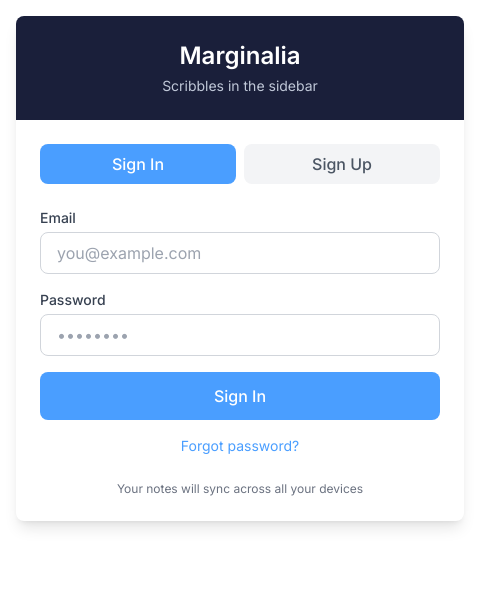
Test: Options › Sign In form › should show error message on sign in failure
The image size is (481, 609).
(page scrolled)
Step 1. Type "test@example.com" into the field with test id "email-input" → (240, 253), box [40, 232, 440, 274]
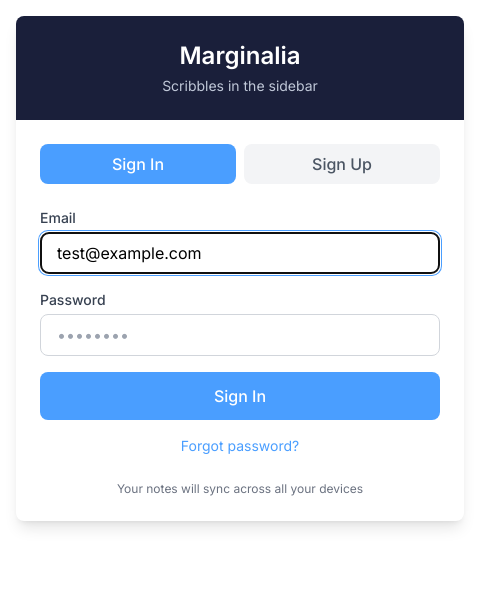
Step 2. Type "wrongpassword" into the password field with test id "password-input" → (240, 335), box [40, 314, 440, 356]
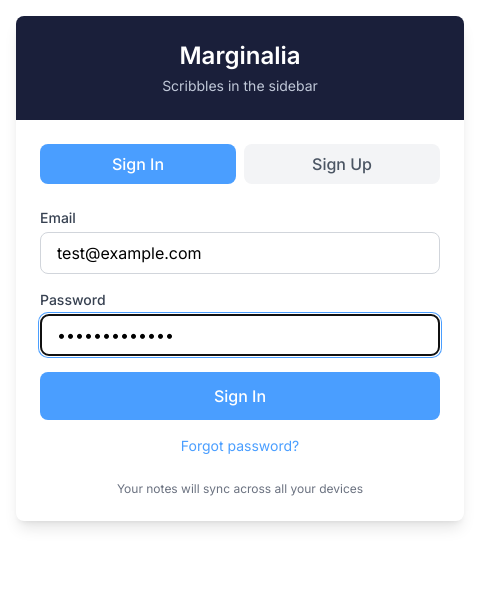
Step 3. Click the button with test id "signin-submit-button" → click(240, 396), box [40, 372, 440, 420]
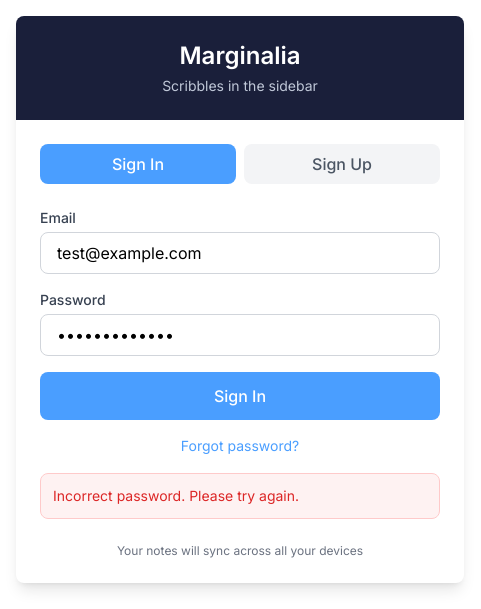
Result: the message with test id "error-message" shows "Incorrect password" at [53, 487, 299, 504]
